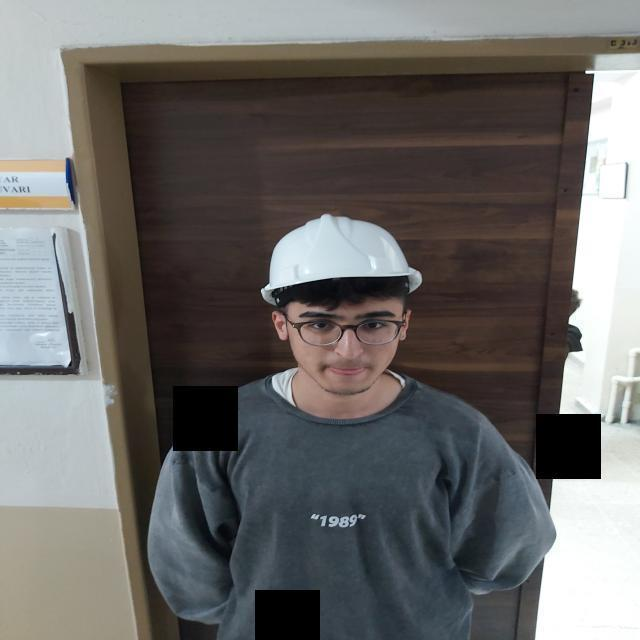helmet: (260, 212, 422, 306)
